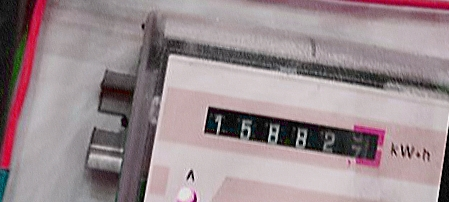1: (210, 110, 227, 134)
2: (319, 128, 338, 154)
5: (237, 114, 255, 141)
7: (349, 139, 363, 158)
8: (292, 124, 310, 150), (265, 120, 281, 145)
screen: (192, 94, 395, 177)
